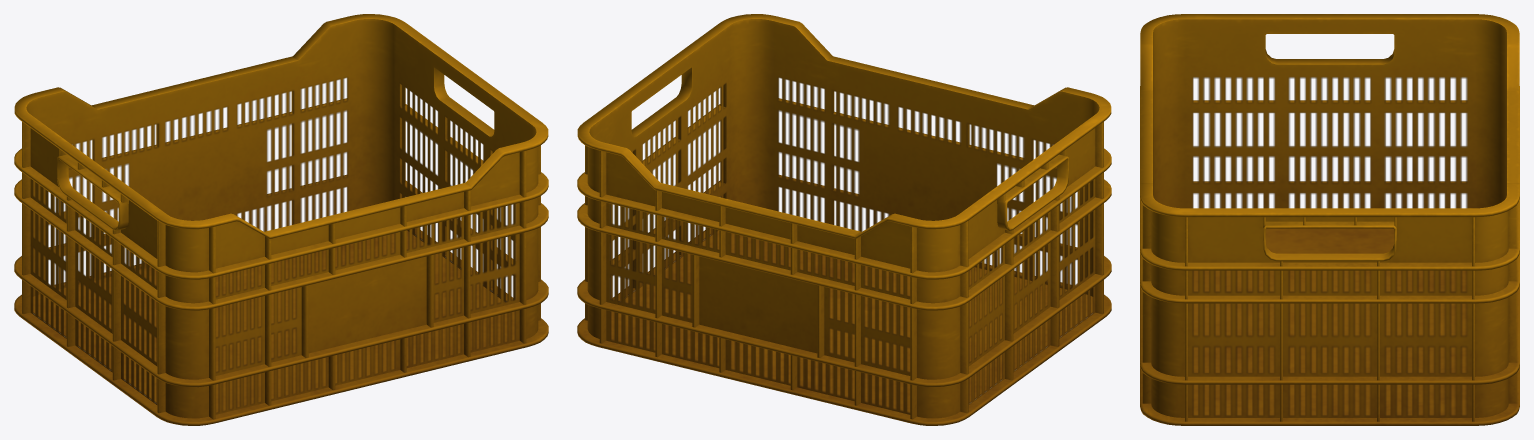
Rendered from plastic_crate_02.glb.
The picture shows the model from 3 angles, left to right: view 1: azimuth 30°, elevation 25°; view 2: azimuth 150°, elevation 25°; view 3: azimuth 270°, elevation 25°; orthographic projection. The views are drawn at different scales.
Visible parts, largest first — view 1: plastic_crate_02; view 2: plastic_crate_02; view 3: plastic_crate_02.
Boxes of the visible parts, x1,y1,x2,y2 form: plastic_crate_02: (14,14,548,425); plastic_crate_02: (577,14,1111,425); plastic_crate_02: (1140,14,1519,425).
Size of the model in its own units: 0.5055 by 0.2541 by 0.4055.
1 material, 1 textured.
